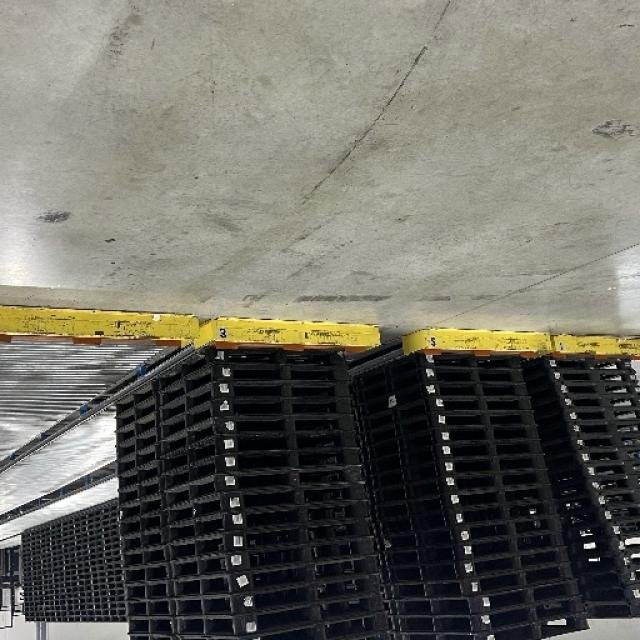igps: (155, 390, 359, 451), (167, 549, 385, 605), (165, 514, 379, 571), (163, 494, 376, 551), (171, 568, 387, 622), (160, 444, 368, 500), (157, 408, 361, 465), (168, 531, 382, 585), (160, 461, 368, 516), (158, 425, 361, 481), (173, 589, 394, 640), (163, 480, 374, 533), (156, 395, 358, 448), (157, 377, 357, 430), (155, 348, 357, 399), (155, 363, 356, 412), (467, 559, 582, 607), (474, 574, 585, 618), (458, 544, 574, 586), (476, 593, 588, 636), (457, 528, 573, 566), (454, 513, 571, 549), (448, 499, 565, 534), (441, 464, 556, 498), (479, 606, 593, 640), (446, 484, 560, 516), (440, 452, 553, 483), (438, 438, 550, 466), (435, 423, 546, 448), (433, 409, 542, 434), (430, 395, 539, 420), (423, 382, 538, 405), (421, 351, 529, 374), (422, 368, 532, 390), (555, 391, 640, 411), (544, 355, 634, 372), (555, 381, 639, 399), (566, 432, 640, 452), (570, 444, 640, 465), (583, 471, 640, 496), (559, 407, 640, 423), (552, 370, 638, 385), (588, 487, 640, 511), (579, 459, 640, 479), (564, 420, 640, 435), (607, 544, 640, 578), (598, 515, 640, 541), (595, 501, 640, 525), (604, 530, 640, 558)
